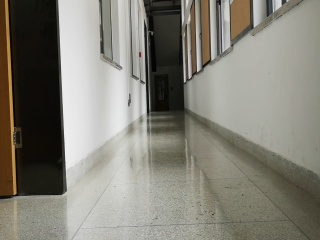room: (1, 1, 68, 199)
